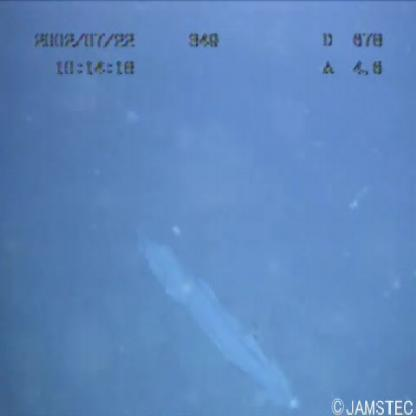Rác: (122, 216, 313, 409)
